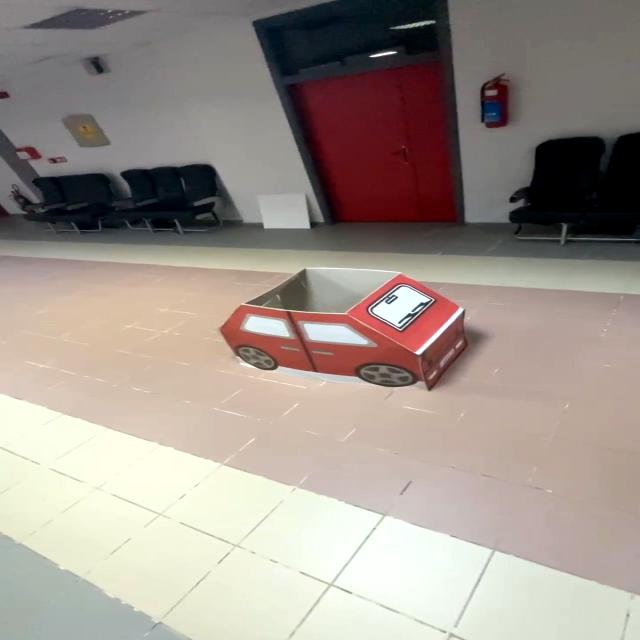red_car: (203, 259, 499, 400)
